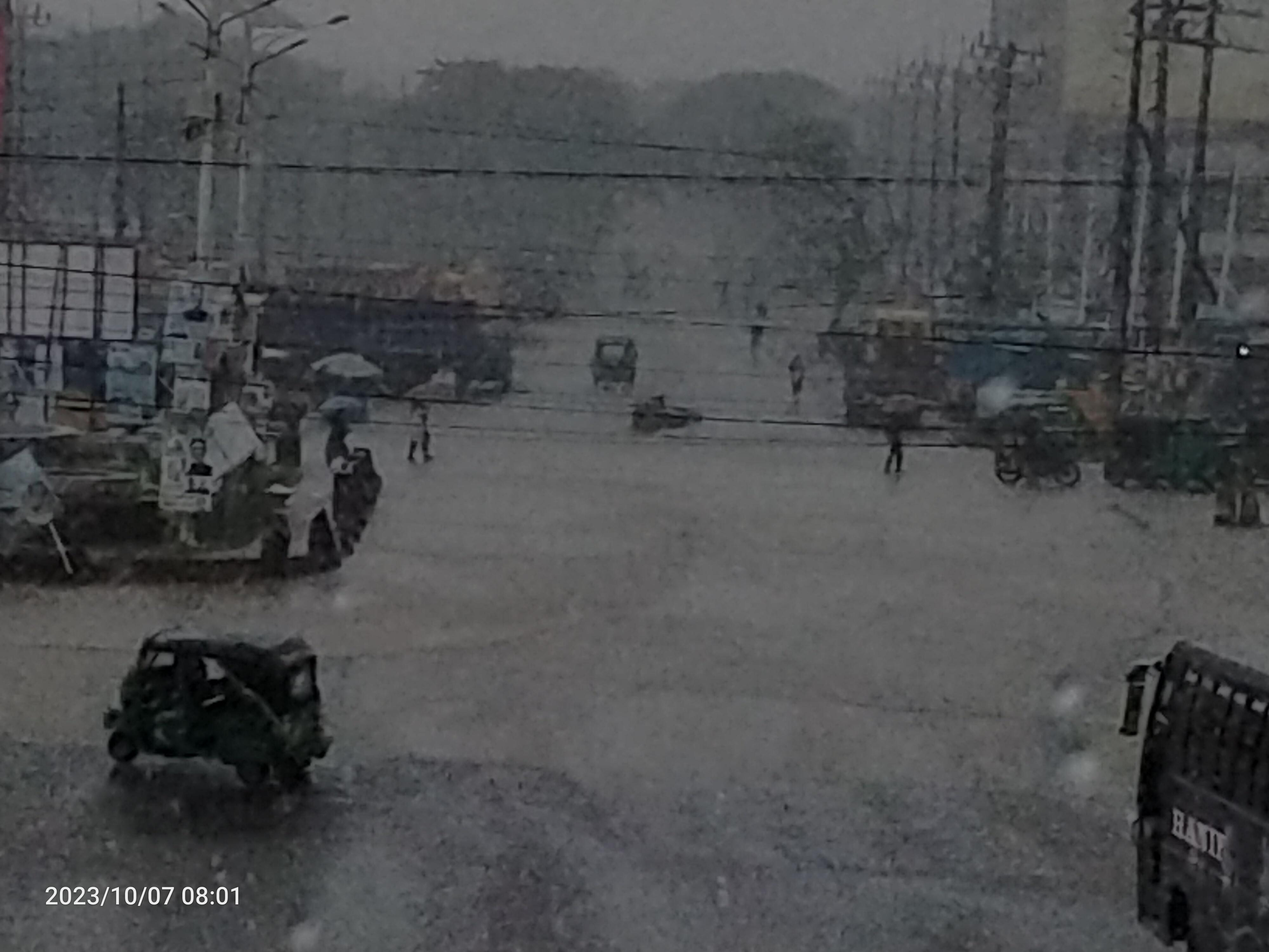Bike: (985, 402, 1089, 494)
Bus: (1103, 616, 1269, 952)
